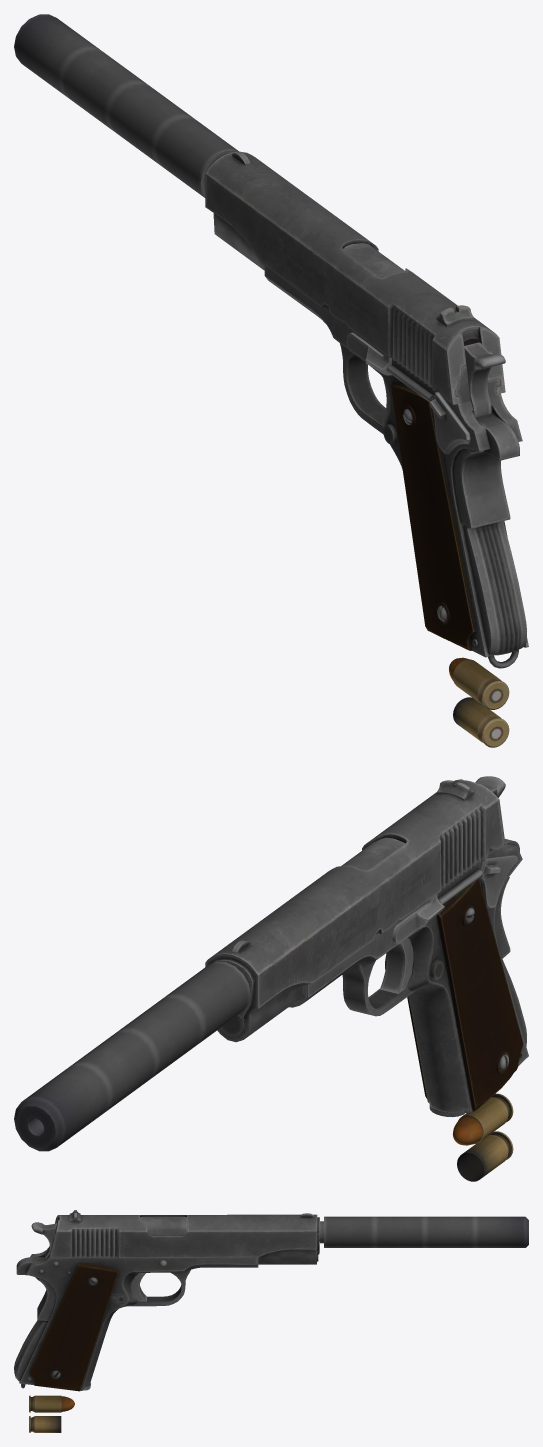
File: colt.19aed50f70.glb
3 renders of one model, top to bottom at view 1: azimuth 30°, elevation 25°; view 2: azimuth 150°, elevation 25°; view 3: azimuth 270°, elevation 25°, orthographic. The views are drawn at different scales.
Parts seen in each view (by area): view 1: Shutter_lowTris, Silencer_lowTris, Handle_lowTris, Receiver_lowTris, BackHandle_lowTris, SafetyHandle_lowTris, Round_lowTris, Shell_lowTris, Hammer_lowTris, SwitchMode_lowTris, Barrel_lowTris, ShutterDelay_lowTris; view 2: Shutter_lowTris, Silencer_lowTris, Receiver_lowTris, Handle_lowTris, Round_lowTris, Shell_lowTris, Trigger_lowTris, SwitchMode_lowTris, ShutterDelay_lowTris, Barrel_lowTris, SafetyHandle_lowTris; view 3: Shutter_lowTris, Silencer_lowTris, Handle_lowTris, Receiver_lowTris, Barrel_lowTris, SafetyHandle_lowTris, BackHandle_lowTris, Round_lowTris, Shell_lowTris, Hammer_lowTris, Trigger_lowTris.
Part boxes in pixels (box(x1,y1,x2,y2)): Shutter_lowTris: box(205, 151, 505, 404); Silencer_lowTris: box(14, 14, 238, 197); Handle_lowTris: box(390, 380, 507, 650); Receiver_lowTris: box(264, 265, 528, 657); BackHandle_lowTris: box(463, 521, 526, 668); SafetyHandle_lowTris: box(453, 413, 519, 528); Round_lowTris: box(449, 657, 509, 709); Shell_lowTris: box(453, 697, 509, 747); Hammer_lowTris: box(464, 342, 505, 417); SwitchMode_lowTris: box(429, 392, 470, 454); Barrel_lowTris: box(343, 243, 404, 277); ShutterDelay_lowTris: box(346, 332, 391, 375); Shutter_lowTris: box(205, 779, 505, 1042); Silencer_lowTris: box(14, 961, 250, 1151); Receiver_lowTris: box(289, 844, 528, 1112); Handle_lowTris: box(407, 879, 523, 1111); Round_lowTris: box(452, 1093, 513, 1145); Shell_lowTris: box(457, 1131, 513, 1181); Trigger_lowTris: box(380, 938, 413, 993); SwitchMode_lowTris: box(479, 855, 517, 908); ShutterDelay_lowTris: box(392, 894, 444, 944); Barrel_lowTris: box(341, 837, 404, 870); SafetyHandle_lowTris: box(494, 839, 519, 958); Shutter_lowTris: box(49, 1210, 319, 1264); Silencer_lowTris: box(320, 1216, 528, 1247); Handle_lowTris: box(29, 1263, 119, 1391); Receiver_lowTris: box(19, 1247, 258, 1390); Barrel_lowTris: box(140, 1216, 319, 1241); SafetyHandle_lowTris: box(16, 1257, 56, 1320); BackHandle_lowTris: box(14, 1320, 47, 1388); Round_lowTris: box(29, 1395, 74, 1412); Shell_lowTris: box(29, 1416, 61, 1432); Hammer_lowTris: box(31, 1222, 57, 1258); Trigger_lowTris: box(131, 1273, 146, 1301).
Size of the model in its own units: 0.0295 by 0.1712 by 0.362.
Materials: 2 (2 with a texture image).
